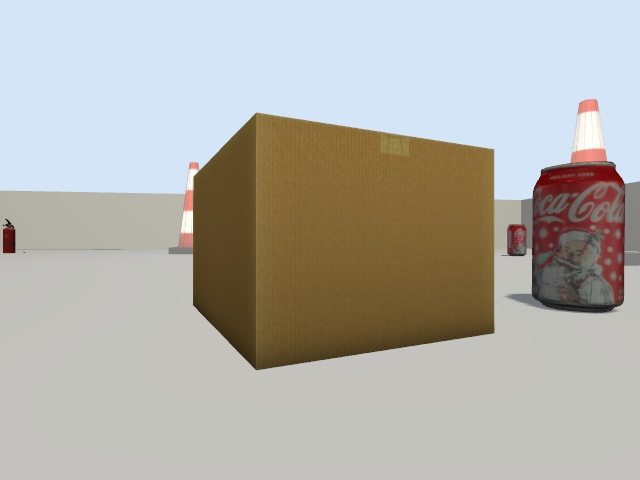canette: (531, 160, 624, 311), (507, 224, 525, 255)
carton: (193, 113, 493, 369)
cone_chantier: (168, 162, 198, 253), (571, 99, 607, 163)
extincteur: (3, 219, 15, 253)
